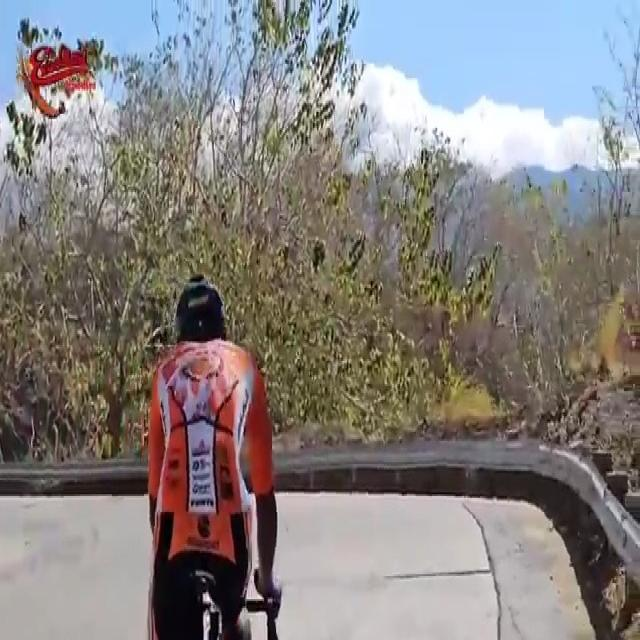bike: (140, 275, 282, 640)
